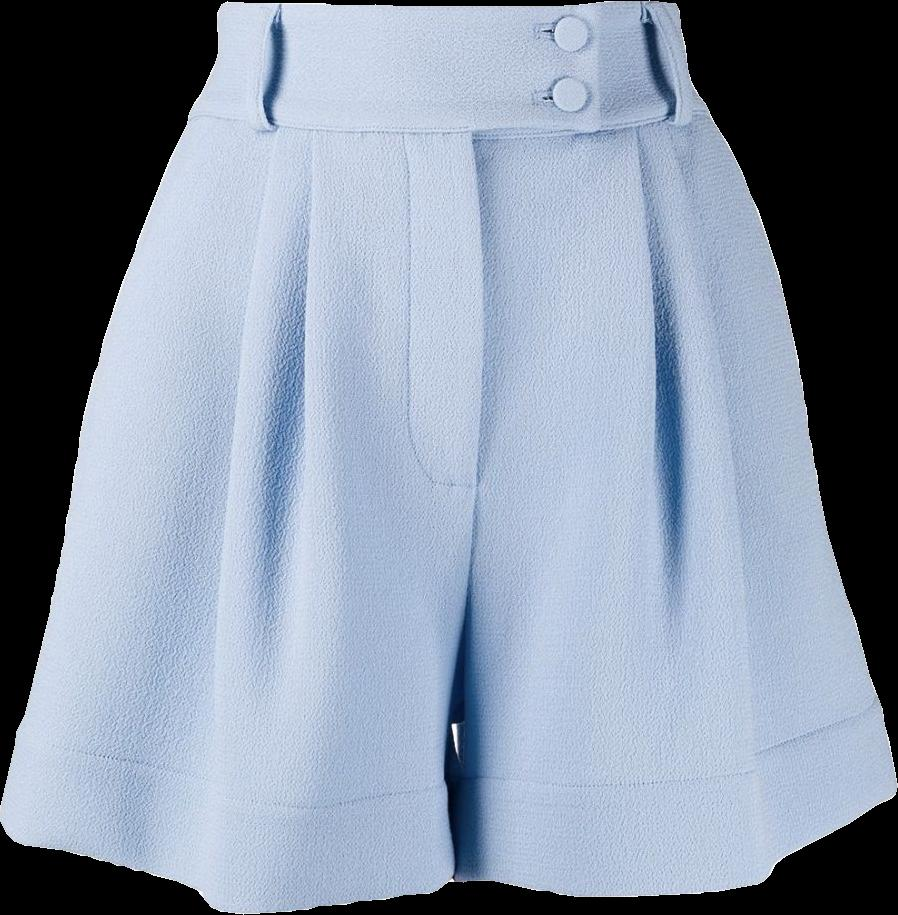Hemline: (456, 785, 897, 907), (0, 815, 459, 914)
Pantleg: (0, 2, 485, 912), (461, 2, 897, 897)
Waistline: (186, 102, 709, 143), (218, 0, 678, 14)
